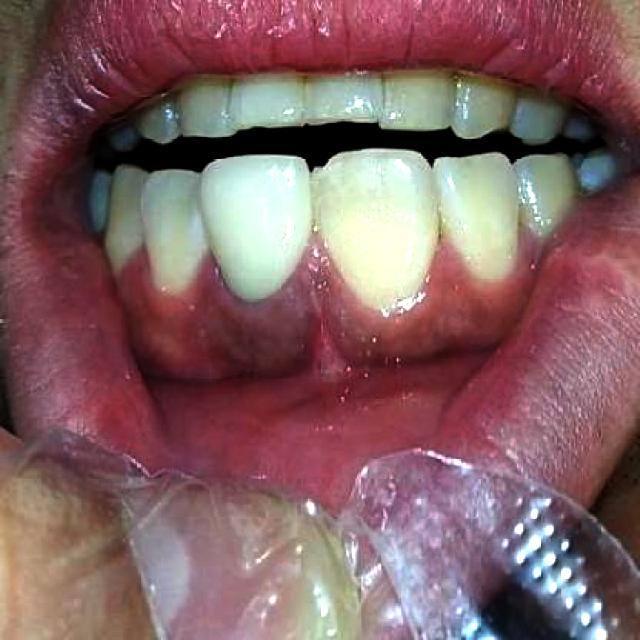Plaque: (170, 238, 533, 359)
